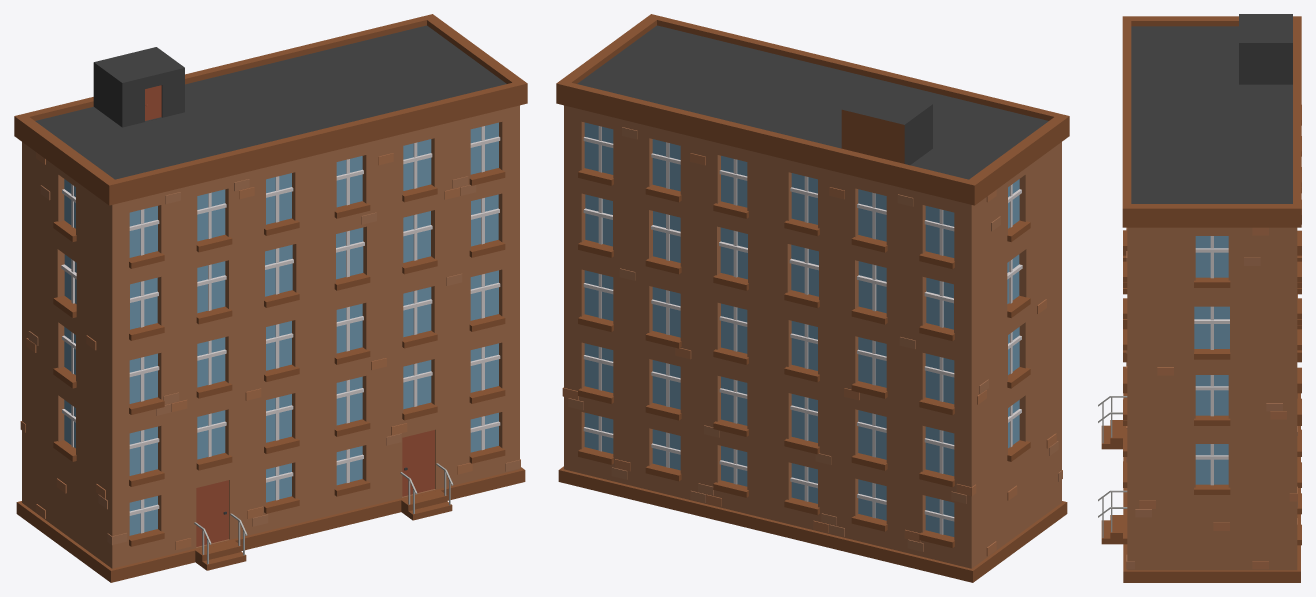
Rendered from House_03.fbx.
The picture shows the model from 3 angles, left to right: view 1: azimuth 30°, elevation 25°; view 2: azimuth 150°, elevation 25°; view 3: azimuth 270°, elevation 25°; orthographic projection. The views are drawn at different scales.
Visible parts, largest first — view 1: House_03; view 2: House_03; view 3: House_03.
Boxes of the visible parts, <box> form: House_03: <box>14,14,527,582</box>; House_03: <box>556,14,1069,582</box>; House_03: <box>1098,14,1301,582</box>.
Bounding box in the file's own units: 28.12 × 28.08 × 12.59.
